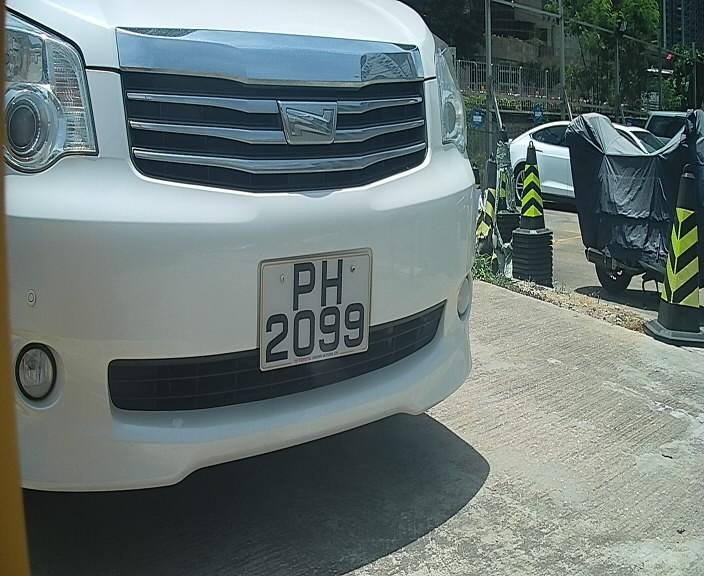License Plate: (246, 235, 384, 381)
